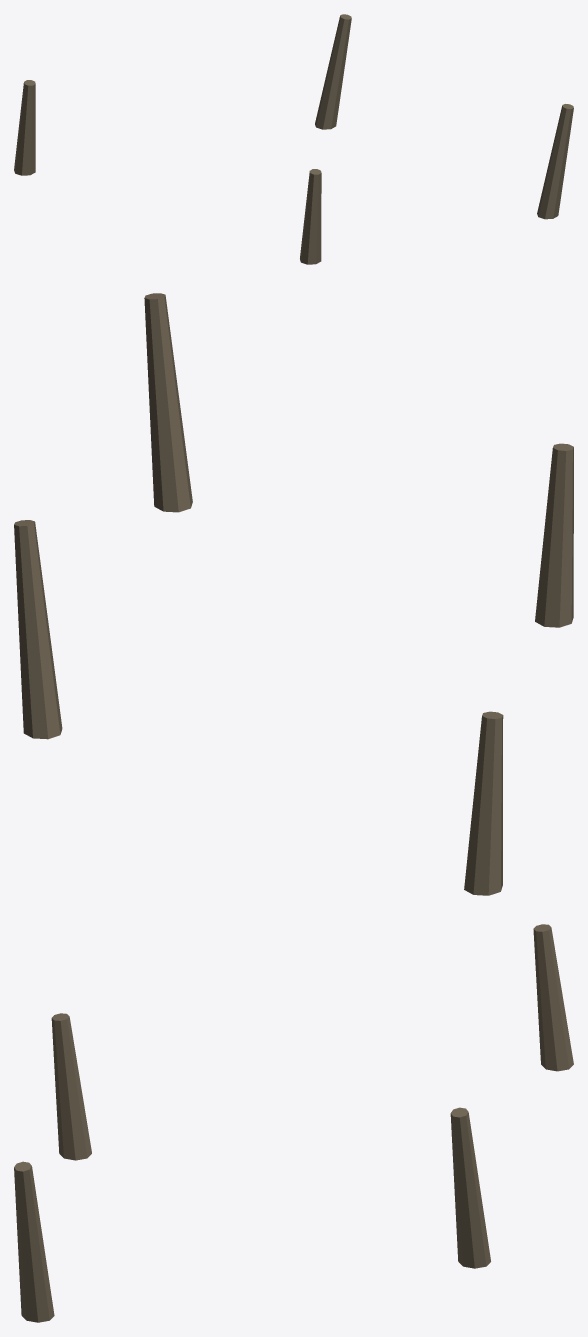
Rendered from flowers_1_winter.glb.
The picture shows the model from 3 angles, top to bottom: view 1: azimuth 30°, elevation 25°; view 2: azimuth 150°, elevation 25°; view 3: azimuth 270°, elevation 25°; orthographic projection. The views are drawn at different scales.
Visible parts, largest first — view 1: flowers_1_winter; view 2: flowers_1_winter; view 3: flowers_1_winter.
Boxes of the visible parts, box(x1,y1,x2,y2) form: flowers_1_winter: box(14, 14, 573, 264); flowers_1_winter: box(14, 293, 573, 895); flowers_1_winter: box(14, 924, 573, 1322).
Size of the model in its own units: 0.8589 by 0.237 by 0.7438.
